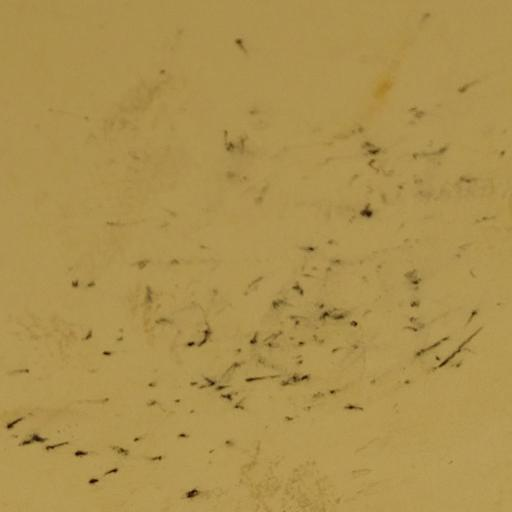stain: (20, 71, 512, 491)
